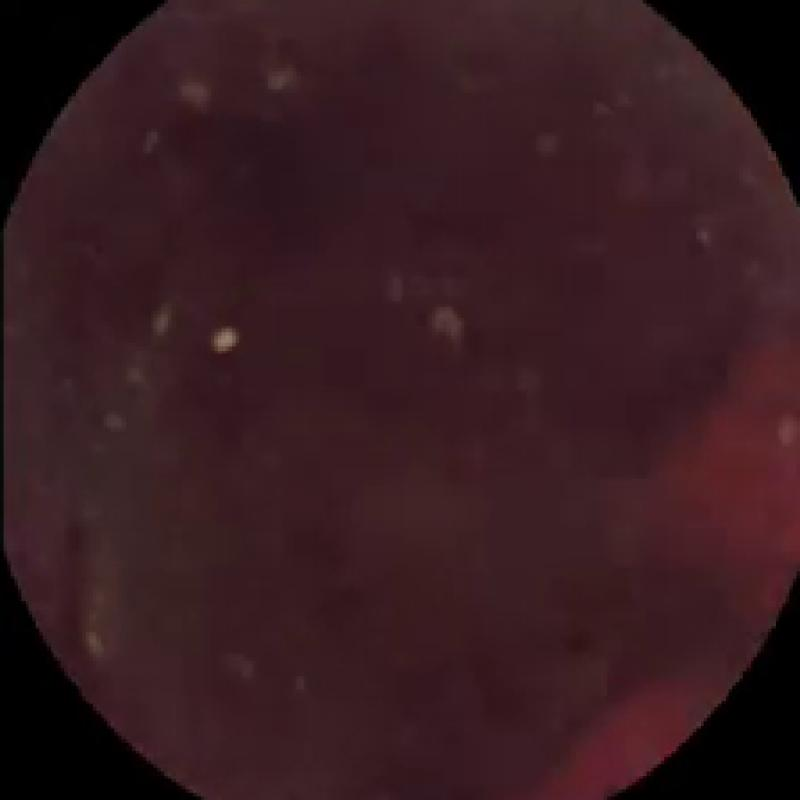bleeding: (557, 343, 800, 796)
